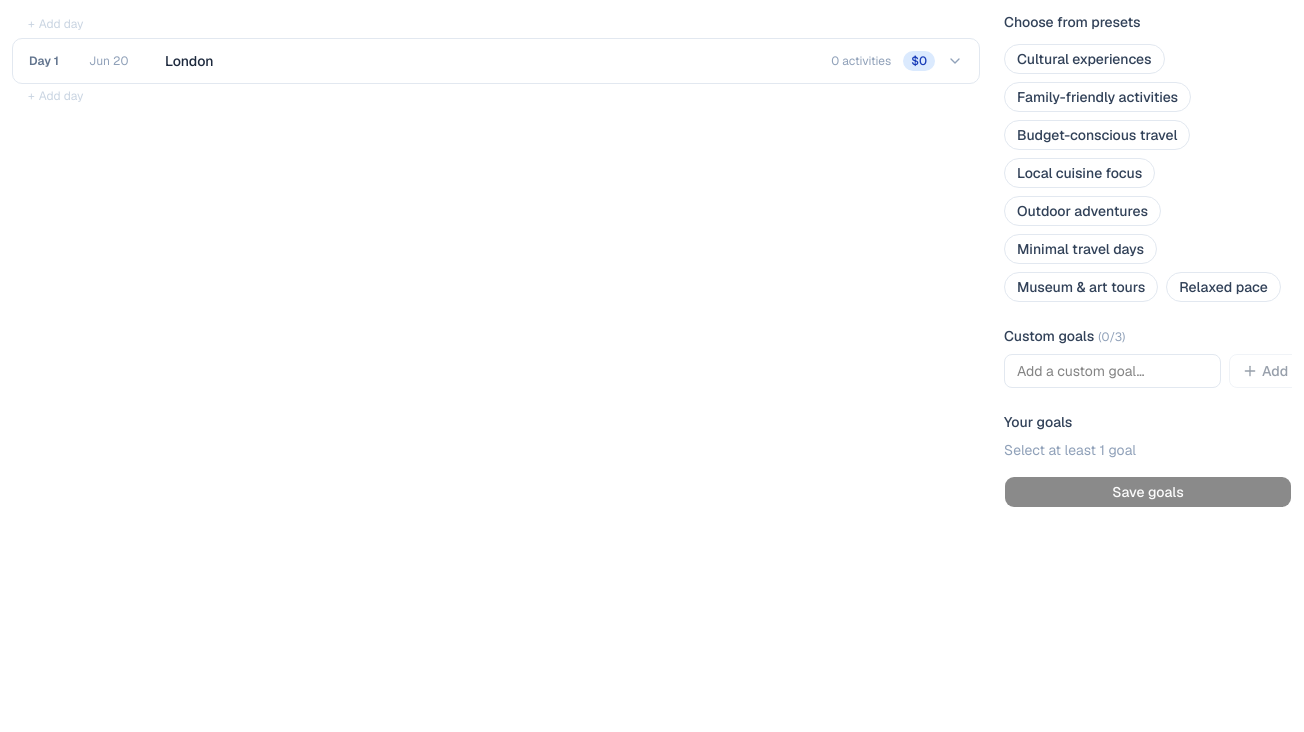
Test: Goal save failure — error visibility [BUG expected] › shows an error message when putTripGoals rejects — not just a silent rollback
This screenshot has width=1304, height=732.
Check: the text "Choose from presets" is shown, box [1004,13,1141,31]
Click the button "Family-friendly activities" at (1098, 97), box [1004,82,1191,112]
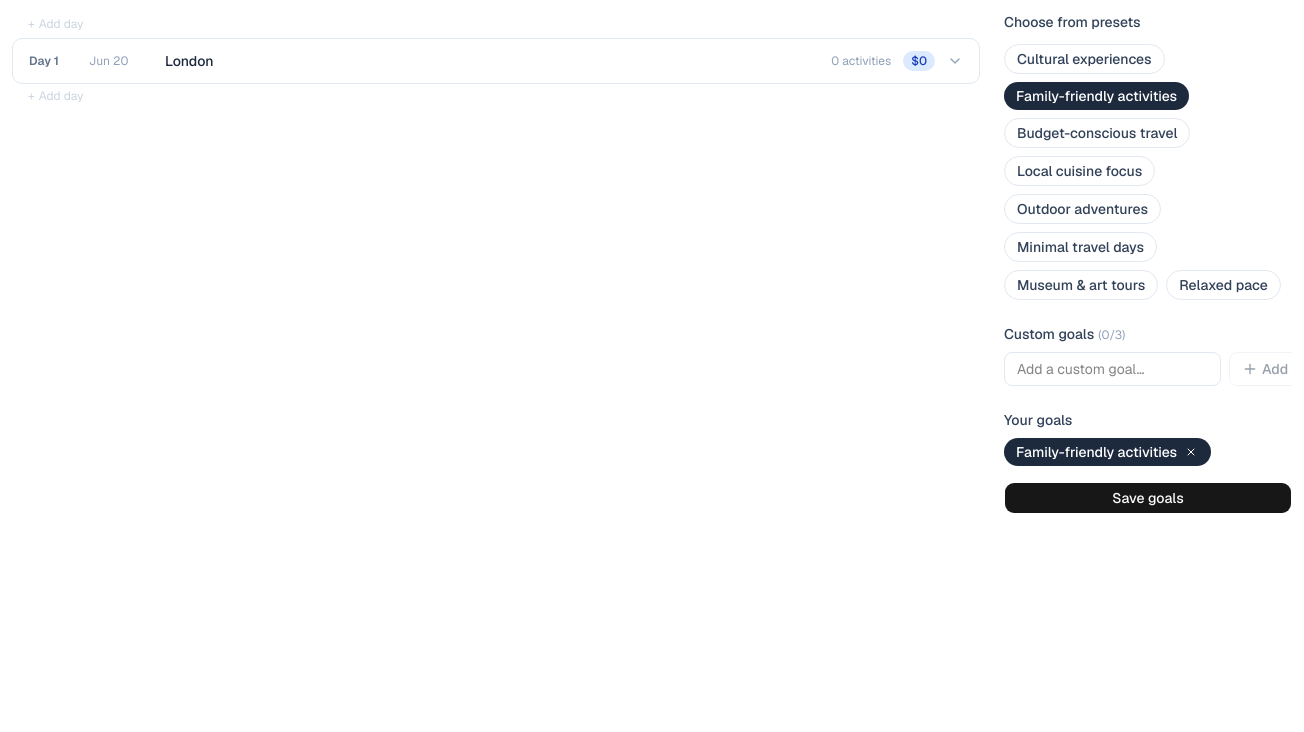
Click the button "Save goals" at (1148, 498), box [1004,482,1292,514]
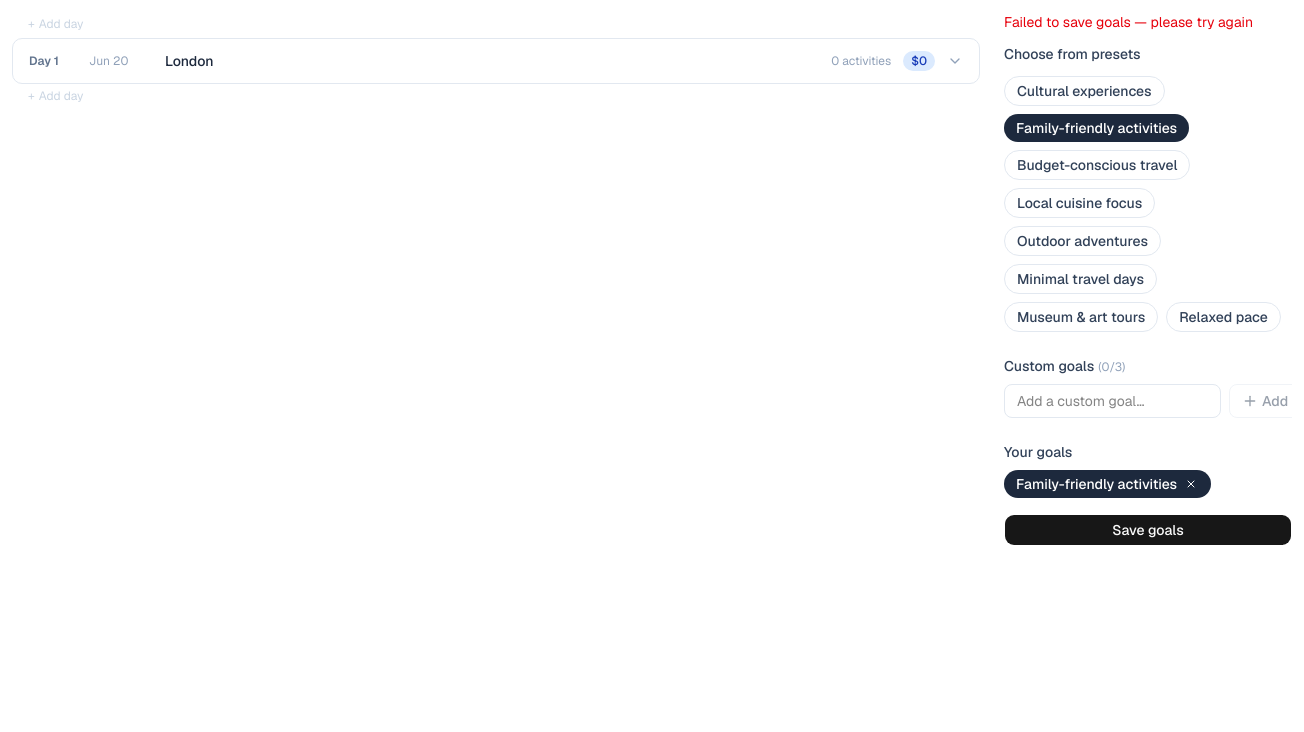
Check: the text "Failed to save goals — please try again" is shown, box [1004,12,1292,32]
